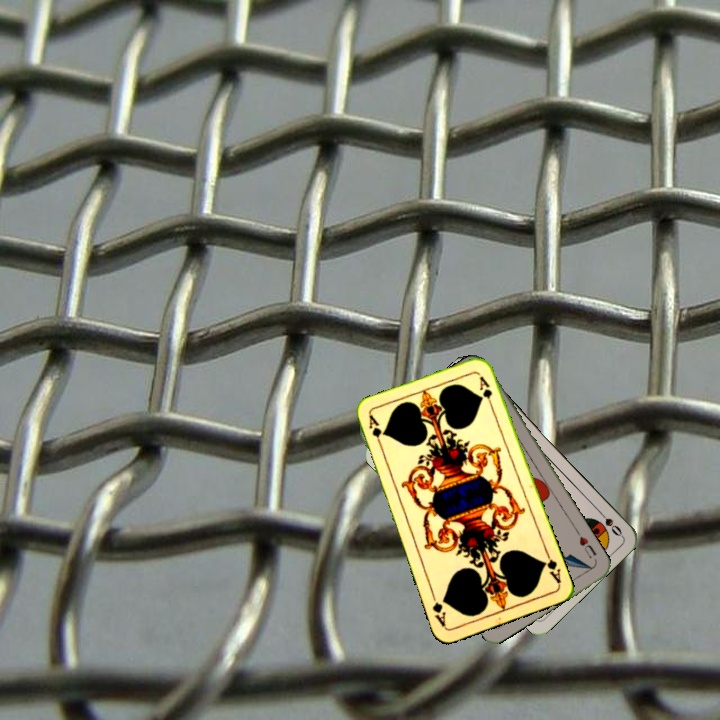GA: (538, 547, 564, 586), (365, 411, 385, 451)
HU: (573, 527, 599, 561)
SO: (593, 505, 625, 539)
